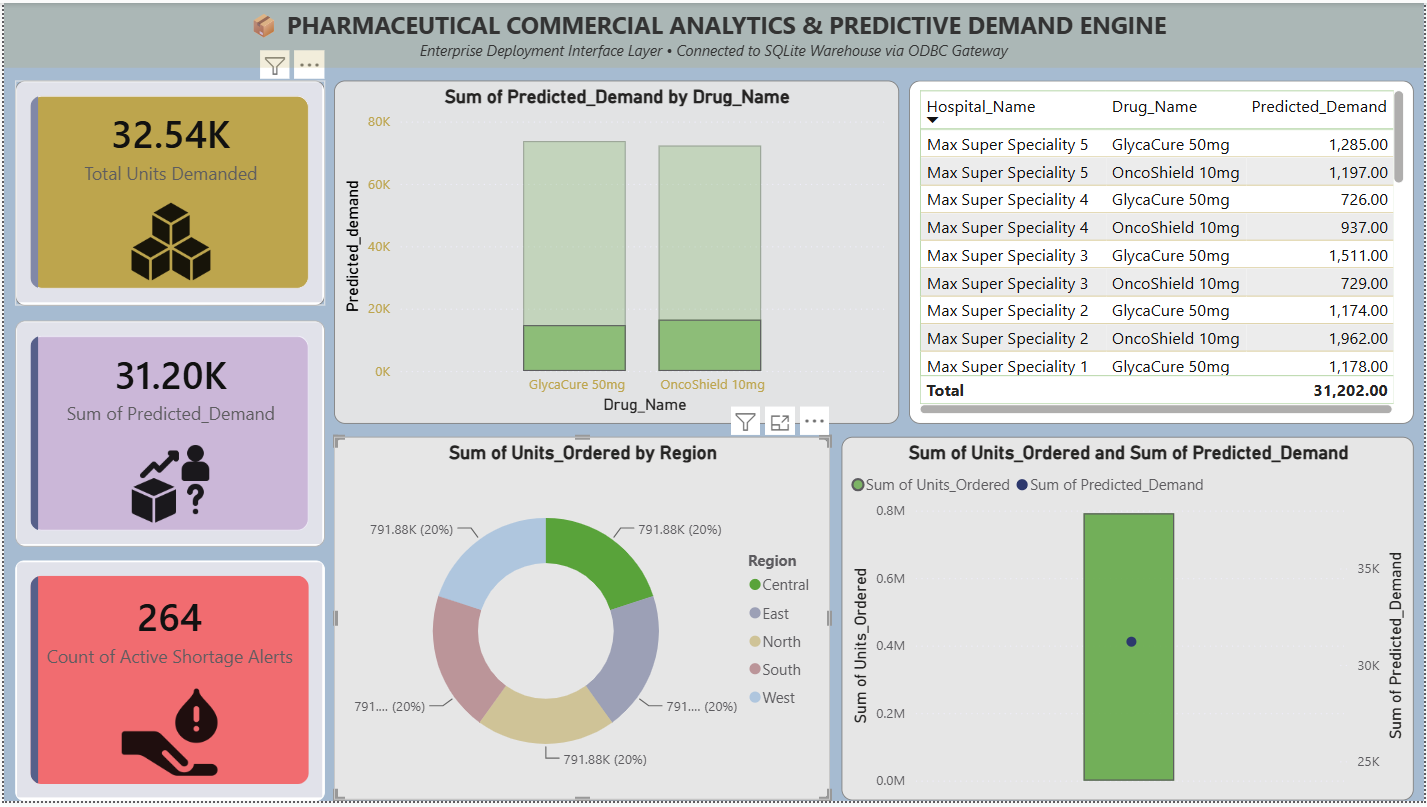

The dashboard page shown, as its layout file describes it:
{"tool":"powerbi","page":{"name":"Page 1","canvas":[1280,720],"ordinal":0},"visuals":[{"type":"cardVisual","fields":{"Data":["Sum(demand_predictions.Units_Ordered)"]},"box":[10.1,69.9,279.5,202.9],"z":0},{"type":"cardVisual","fields":{"Data":["Sum(demand_predictions.Predicted_Demand)"]},"box":[10.1,286.3,279.5,204],"z":1000},{"type":"cardVisual","fields":{"Data":["CountNonNull(demand_predictions.Active Shortage Alerts)"]},"box":[10.1,502.7,279.5,216.4],"z":2000},{"type":"clusteredColumnChart","fields":{"Category":["demand_predictions.Drug_Name"],"Y":["Sum(demand_predictions.Predicted_Demand)"]},"box":[297.6,69.9,509.5,310],"z":3000},{"type":"donutChart","fields":{"Category":["demand_predictions.Region"],"Y":["Sum(sales_records.Units_Ordered)"]},"box":[297.6,391.1,447.5,328],"z":4000},{"type":"tableEx","fields":{"Values":["demand_predictions.Hospital_Name","demand_predictions.Drug_Name","Sum(demand_predictions.Predicted_Demand)"]},"box":[816,69.9,455.4,310],"z":5000},{"type":"lineClusteredColumnComboChart","fields":{"Y":["Sum(sales_records.Units_Ordered)"],"Y2":["Sum(demand_predictions.Predicted_Demand)"]},"box":[755.2,391.1,516.2,328],"z":6000},{"type":"shape","box":[0,0,1280,58.6],"z":7000},{"type":"textbox","box":[180,0,919,58],"z":8000}]}

Visuals, with their boxes in screenshot pixels (x1, y1, x2, y2), scaled from the page's 1280x720 canvas onto the 1427x807 screenshot:
cardVisual - Sum(demand_predictions.Units_Ordered): {"left": 11, "top": 78, "right": 323, "bottom": 306}
cardVisual - Sum(demand_predictions.Predicted_Demand): {"left": 11, "top": 321, "right": 323, "bottom": 550}
cardVisual - CountNonNull(demand_predictions.Active Shortage Alerts): {"left": 11, "top": 563, "right": 323, "bottom": 806}
clusteredColumnChart - demand_predictions.Drug_Name x Sum(demand_predictions.Predicted_Demand): {"left": 332, "top": 78, "right": 900, "bottom": 426}
donutChart - demand_predictions.Region x Sum(sales_records.Units_Ordered): {"left": 332, "top": 438, "right": 831, "bottom": 806}
tableEx - demand_predictions.Hospital_Name x demand_predictions.Drug_Name: {"left": 910, "top": 78, "right": 1417, "bottom": 426}
lineClusteredColumnComboChart - Sum(sales_records.Units_Ordered) x Sum(demand_predictions.Predicted_Demand): {"left": 842, "top": 438, "right": 1417, "bottom": 806}
shape: {"left": 0, "top": 0, "right": 1426, "bottom": 66}
textbox: {"left": 201, "top": 0, "right": 1225, "bottom": 65}
